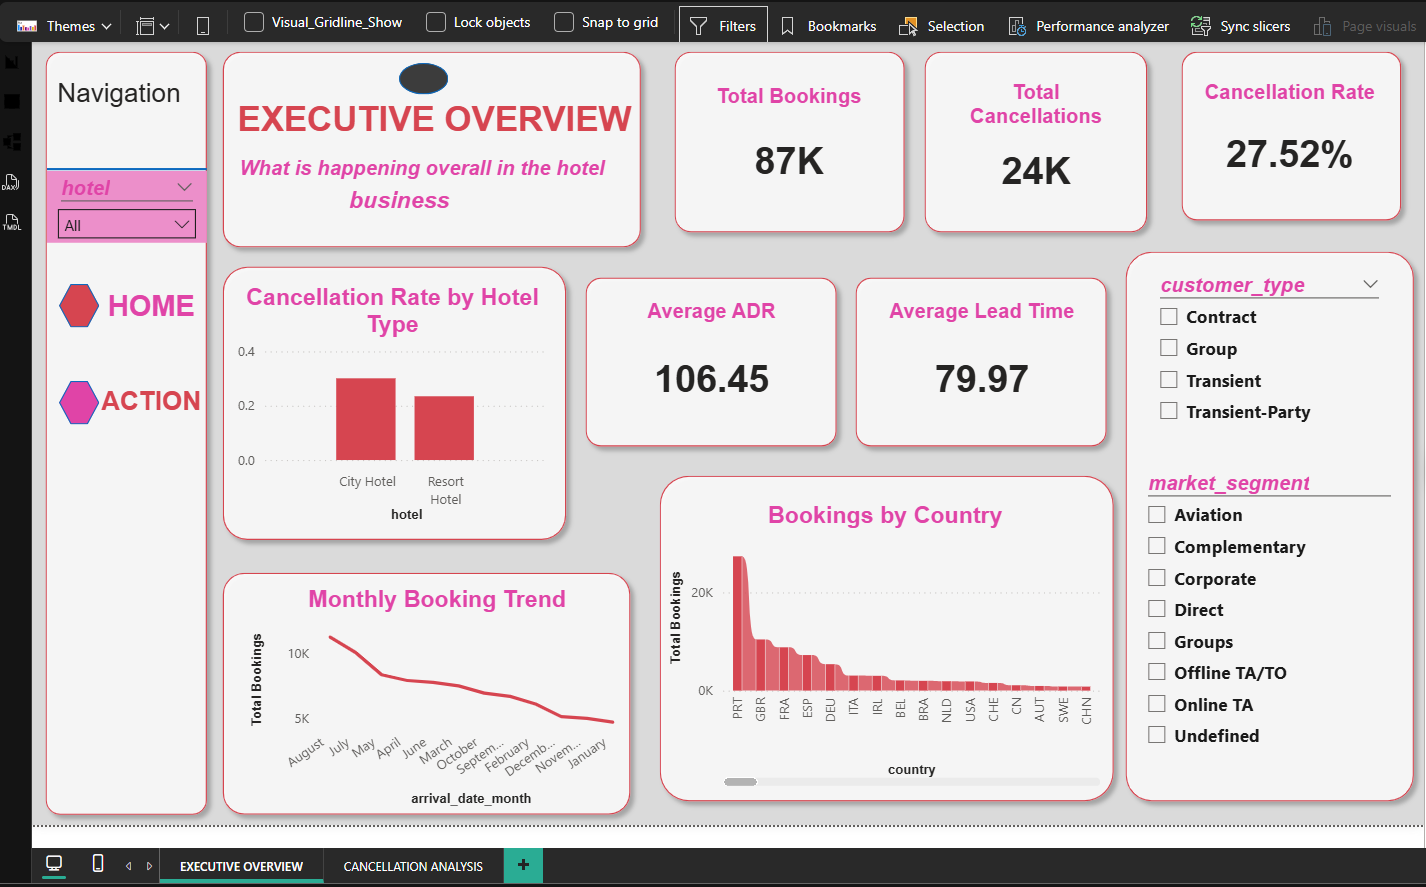

The page's visual inventory and layout, read from the dashboard file:
{"tool":"powerbi","page":{"name":"EXECUTIVE OVERVIEW","canvas":[1280,720],"ordinal":0},"visuals":[{"type":"shape","box":[166.2,0,402.4,197.8],"z":0},{"type":"shape","box":[4.1,0,166.2,719.7],"z":1000},{"type":"shape","box":[997.1,184,282.9,523.3],"z":2000},{"type":"shape","box":[1047.9,0,219.7,173],"z":3000},{"type":"shape","box":[166.2,479.3,392.8,240.3],"z":4000},{"type":"shape","box":[811.7,0,222.5,184],"z":5000},{"type":"shape","box":[582.3,0,229.4,184],"z":6000},{"type":"shape","box":[166.2,197.8,333.7,269.2],"z":7000},{"type":"shape","box":[499.9,207.4,248.6,173],"z":8000},{"type":"shape","box":[748.5,207.4,248.6,173],"z":9000},{"type":"slicer","fields":{"Values":["hotel_bookings_dashboard.customer_type"]},"box":[1024.5,207.4,226.6,173],"z":10000},{"type":"slicer","fields":{"Values":["hotel_bookings_dashboard.market_segment"]},"box":[1013.6,390,248.6,270.6],"z":11000},{"type":"shape","box":[568.6,390,435.4,317.3],"z":12000},{"type":"card","title":"Total Bookings","fields":{"Values":["Measure.Total Bookings"]},"box":[618,39.8,156.6,116.7],"z":13000},{"type":"card","title":"Total Cancellations","fields":{"Values":["Measure.Total Cancellations"]},"box":[836.4,35.7,173,120.9],"z":14000},{"type":"card","title":"Cancellation Rate","fields":{"Values":["Measure.Cancellation Rate"]},"box":[1072.6,35.7,168.9,109.9],"z":15000},{"type":"card","title":"Average ADR","fields":{"Values":["Measure.Average ADR"]},"box":[539.7,237.6,170.3,122.2],"z":16000},{"type":"card","title":"Average Lead Time","fields":{"Values":["Measure.Average Lead Time"]},"box":[781.5,237.6,184,122.2],"z":17000},{"type":"clusteredColumnChart","title":"Cancellation Rate by Hotel Type","fields":{"Category":["hotel_bookings_dashboard.hotel"],"Y":["Avg(hotel_bookings_dashboard.is_canceled)"]},"box":[184,222.5,295.3,223.9],"z":18000},{"type":"lineChart","title":"Monthly Booking Trend","fields":{"Category":["hotel_bookings_dashboard.arrival_date_month"],"Y":["Measure.Total Bookings"]},"box":[196.4,499.9,351.6,207.4],"z":19000},{"type":"ribbonChart","title":"Bookings by Country","fields":{"Category":["hotel_bookings_dashboard.country"],"Y":["Measure.Total Bookings"]},"box":[582.3,423,405.2,266.4],"z":20000},{"type":"textbox","box":[184,48.1,398.3,50.8],"z":21000},{"type":"textbox","box":[185.4,100.3,363.9,56.3],"z":22000},{"type":"shape","box":[337.9,19.2,45.3,28.8],"z":23000},{"type":"textbox","box":[270.6,129.1,134.6,56.3],"z":24000},{"type":"textbox","box":[4.1,28.8,159.3,57.7],"z":25000},{"type":"shape","box":[13.7,35.7,147,162.1],"z":26000},{"type":"textbox","box":[59.1,222.5,101.6,72.8],"z":27000},{"type":"shape","box":[24.7,222.5,37.1,39.8],"z":28000},{"type":"shape","box":[24.7,311.8,37.1,39.8],"z":29000},{"type":"textbox","box":[45.3,311.8,129.1,64.5],"z":30000},{"type":"slicer","fields":{"Values":["hotel_bookings_dashboard.hotel"]},"box":[14,118.7,146.6,66.3],"z":30001}]}

Visuals, with their boxes on the page's 1280x720 design canvas (x1, y1, x2, y2). These are canvas units, not pixel positions in the 1426x887 screenshot, which may show the page scaled, cropped or inside an application window:
shape: {"left": 166, "top": 0, "right": 569, "bottom": 198}
shape: {"left": 4, "top": 0, "right": 170, "bottom": 720}
shape: {"left": 997, "top": 184, "right": 1280, "bottom": 707}
shape: {"left": 1048, "top": 0, "right": 1268, "bottom": 173}
shape: {"left": 166, "top": 479, "right": 559, "bottom": 720}
shape: {"left": 812, "top": 0, "right": 1034, "bottom": 184}
shape: {"left": 582, "top": 0, "right": 812, "bottom": 184}
shape: {"left": 166, "top": 198, "right": 500, "bottom": 467}
shape: {"left": 500, "top": 207, "right": 748, "bottom": 380}
shape: {"left": 748, "top": 207, "right": 997, "bottom": 380}
slicer - hotel_bookings_dashboard.customer_type: {"left": 1024, "top": 207, "right": 1251, "bottom": 380}
slicer - hotel_bookings_dashboard.market_segment: {"left": 1014, "top": 390, "right": 1262, "bottom": 661}
shape: {"left": 569, "top": 390, "right": 1004, "bottom": 707}
"Total Bookings" card: {"left": 618, "top": 40, "right": 775, "bottom": 156}
"Total Cancellations" card: {"left": 836, "top": 36, "right": 1009, "bottom": 157}
"Cancellation Rate" card: {"left": 1073, "top": 36, "right": 1242, "bottom": 146}
"Average ADR" card: {"left": 540, "top": 238, "right": 710, "bottom": 360}
"Average Lead Time" card: {"left": 782, "top": 238, "right": 966, "bottom": 360}
"Cancellation Rate by Hotel Type" clusteredColumnChart: {"left": 184, "top": 222, "right": 479, "bottom": 446}
"Monthly Booking Trend" lineChart: {"left": 196, "top": 500, "right": 548, "bottom": 707}
"Bookings by Country" ribbonChart: {"left": 582, "top": 423, "right": 988, "bottom": 689}
textbox: {"left": 184, "top": 48, "right": 582, "bottom": 99}
textbox: {"left": 185, "top": 100, "right": 549, "bottom": 157}
shape: {"left": 338, "top": 19, "right": 383, "bottom": 48}
textbox: {"left": 271, "top": 129, "right": 405, "bottom": 185}
textbox: {"left": 4, "top": 29, "right": 163, "bottom": 86}
shape: {"left": 14, "top": 36, "right": 161, "bottom": 198}
textbox: {"left": 59, "top": 222, "right": 161, "bottom": 295}
shape: {"left": 25, "top": 222, "right": 62, "bottom": 262}
shape: {"left": 25, "top": 312, "right": 62, "bottom": 352}
textbox: {"left": 45, "top": 312, "right": 174, "bottom": 376}
slicer - hotel_bookings_dashboard.hotel: {"left": 14, "top": 119, "right": 161, "bottom": 185}
